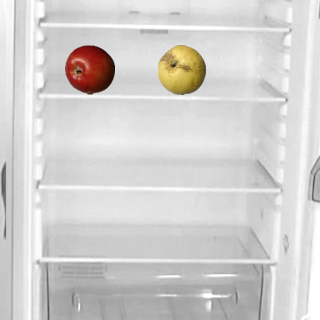Apple Braeburn: (64, 44, 114, 94)
Apple Golden 1: (156, 44, 206, 94)
